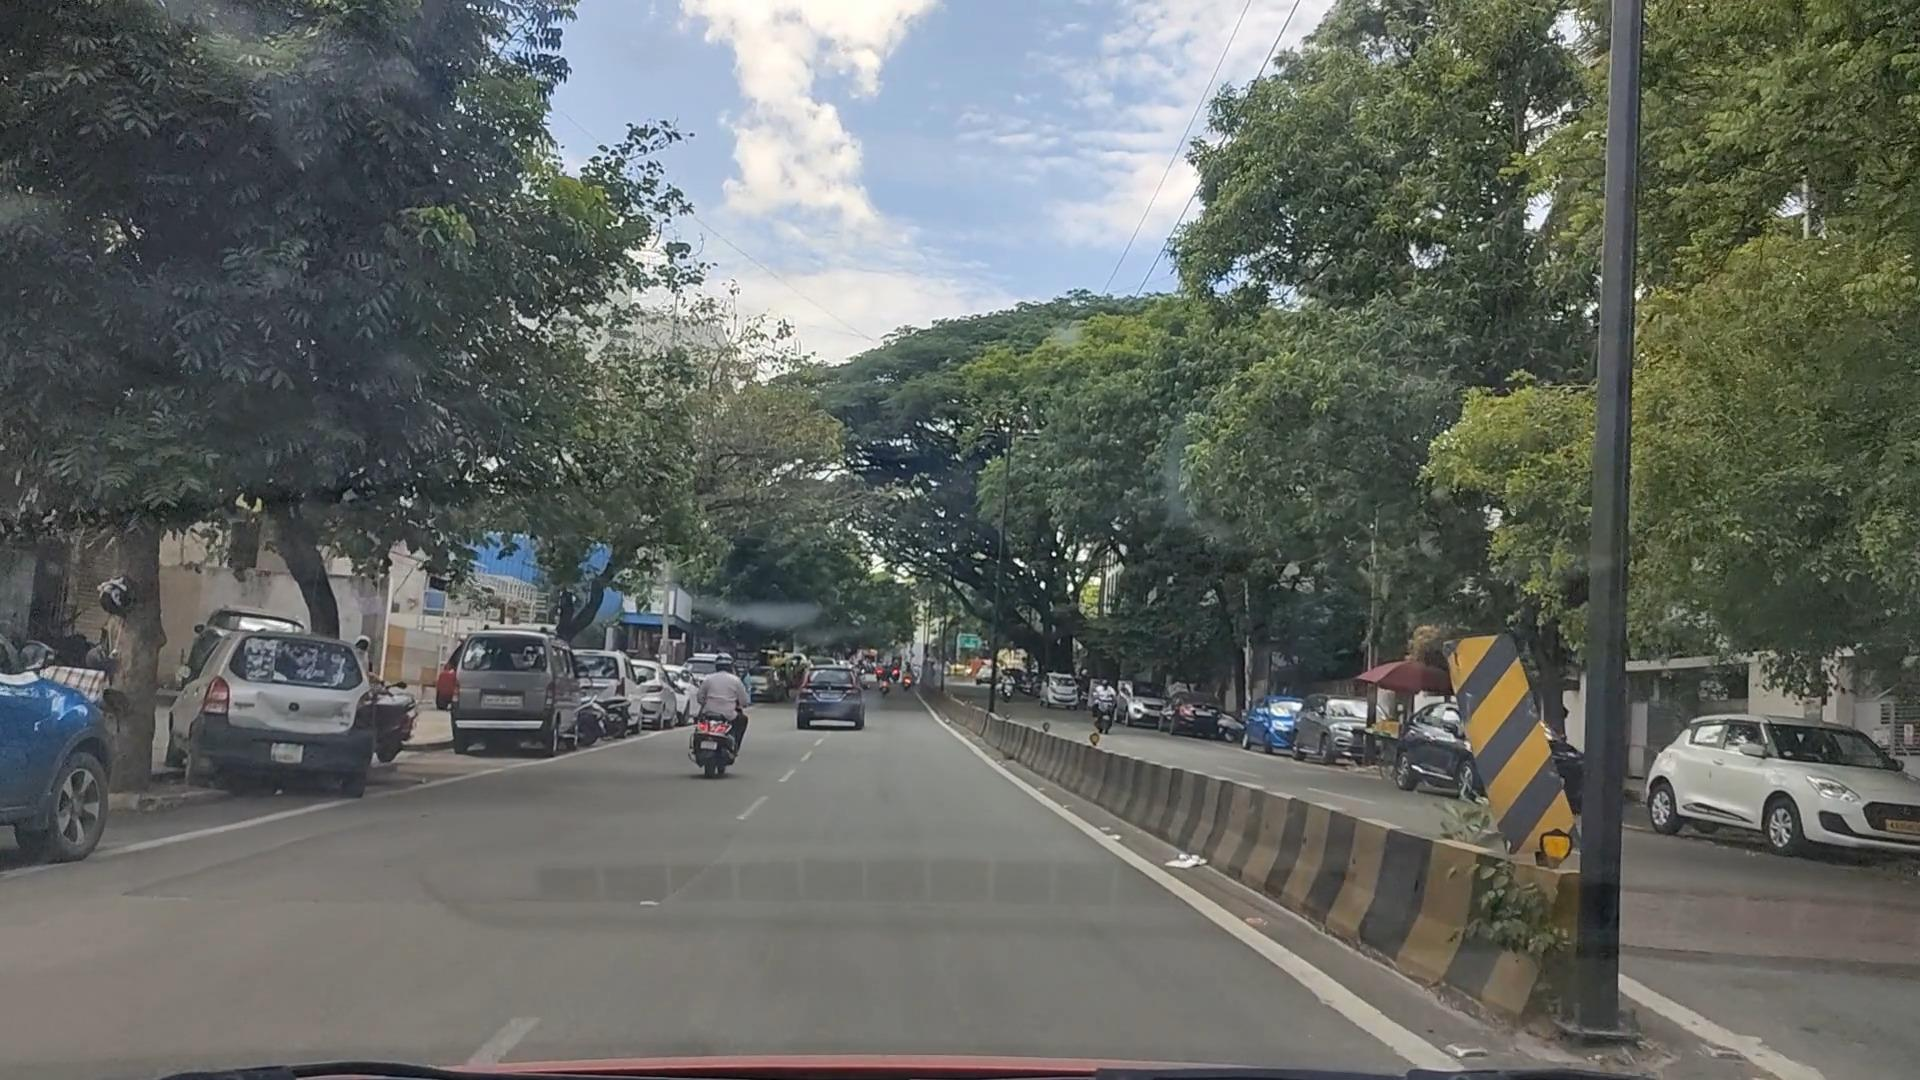LMV: (206, 628, 385, 781), (678, 644, 753, 774)
